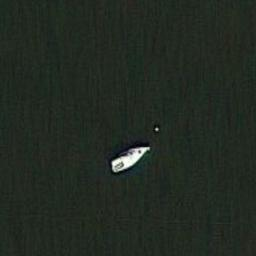boat: (107, 141, 152, 174)
